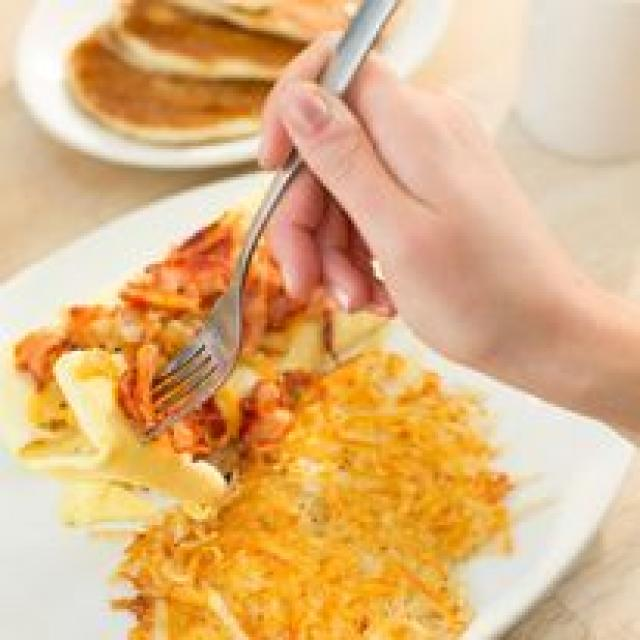Omelette: (19, 186, 372, 488)
Pancakes: (50, 2, 350, 156)
